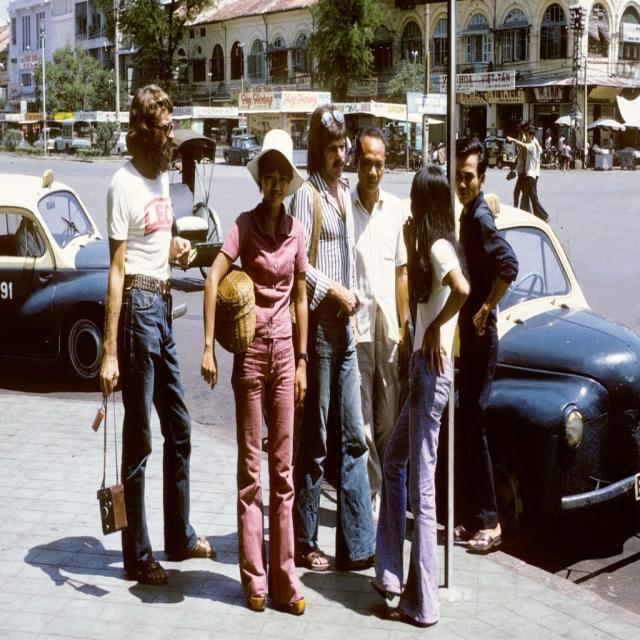car: (221, 127, 267, 171)
